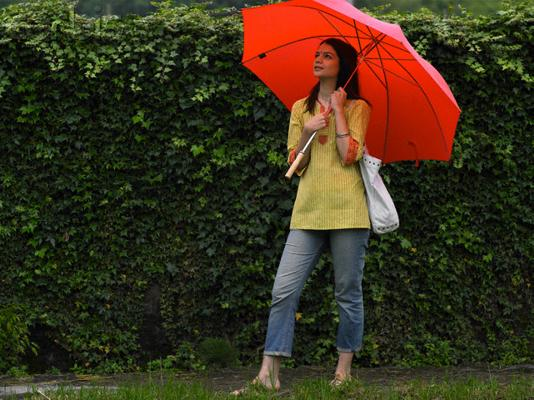person: (231, 38, 373, 398)
